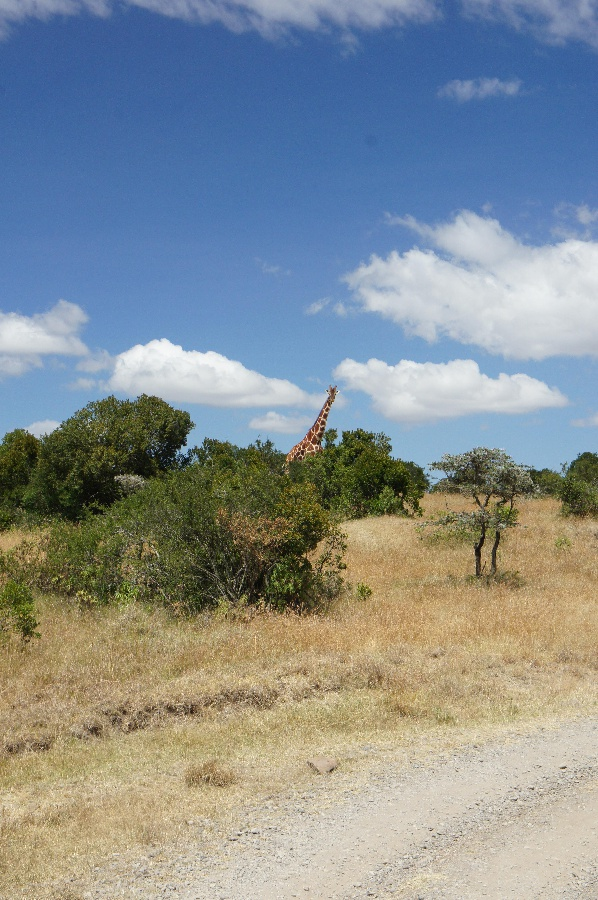giraffe: (294, 382, 348, 462)
